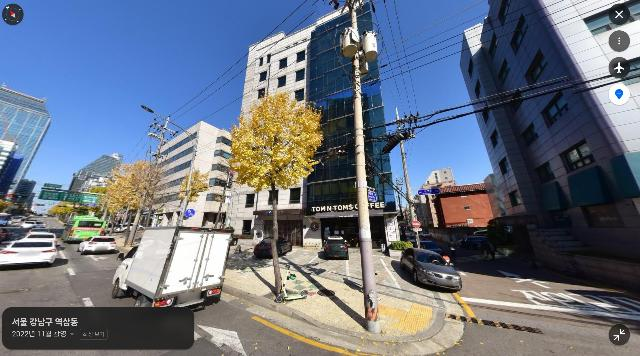ginkgo: (228, 87, 324, 298), (101, 159, 173, 247), (176, 166, 212, 228), (49, 200, 76, 222)
